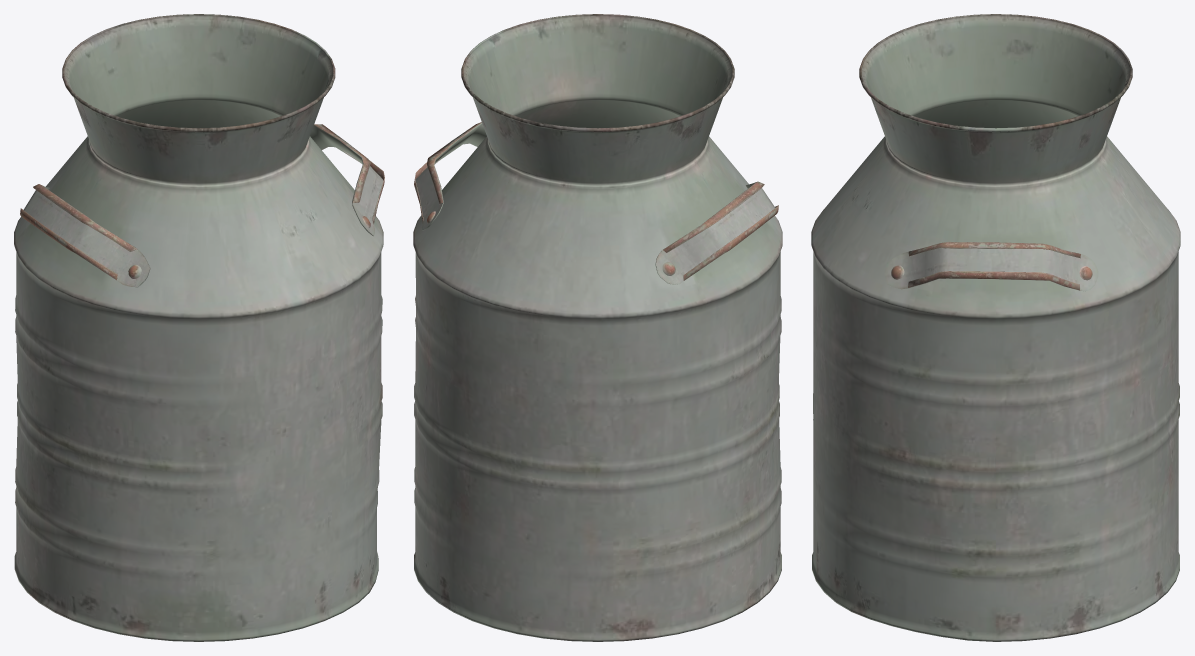
The model's file is metal_jug.glb.
The picture shows the model from 3 angles, left to right: view 1: azimuth 30°, elevation 25°; view 2: azimuth 150°, elevation 25°; view 3: azimuth 270°, elevation 25°; orthographic projection.
Parts seen in each view (by area): view 1: metal_jug; view 2: metal_jug; view 3: metal_jug.
Part boxes in pixels (x1,y1,x2,y2): metal_jug: [14, 14, 384, 641]; metal_jug: [413, 14, 782, 641]; metal_jug: [811, 14, 1180, 641].
Bounding box in the file's own units: 0.1968 × 0.2875 × 0.1955.
Materials: 1 (1 with a texture image).
